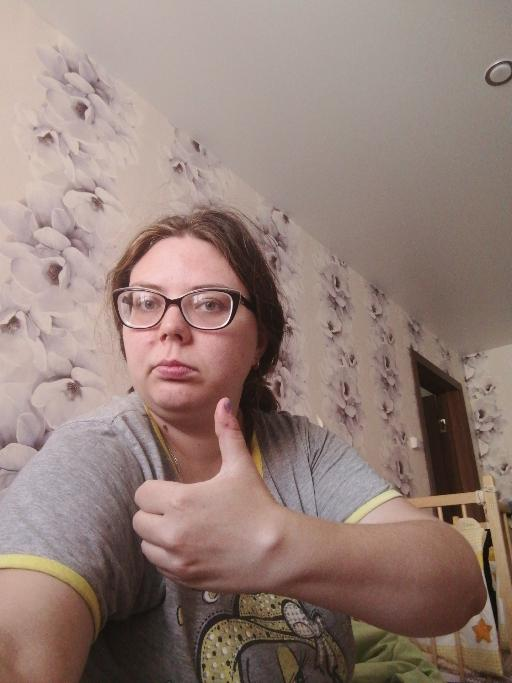like: (128, 395, 285, 596)
